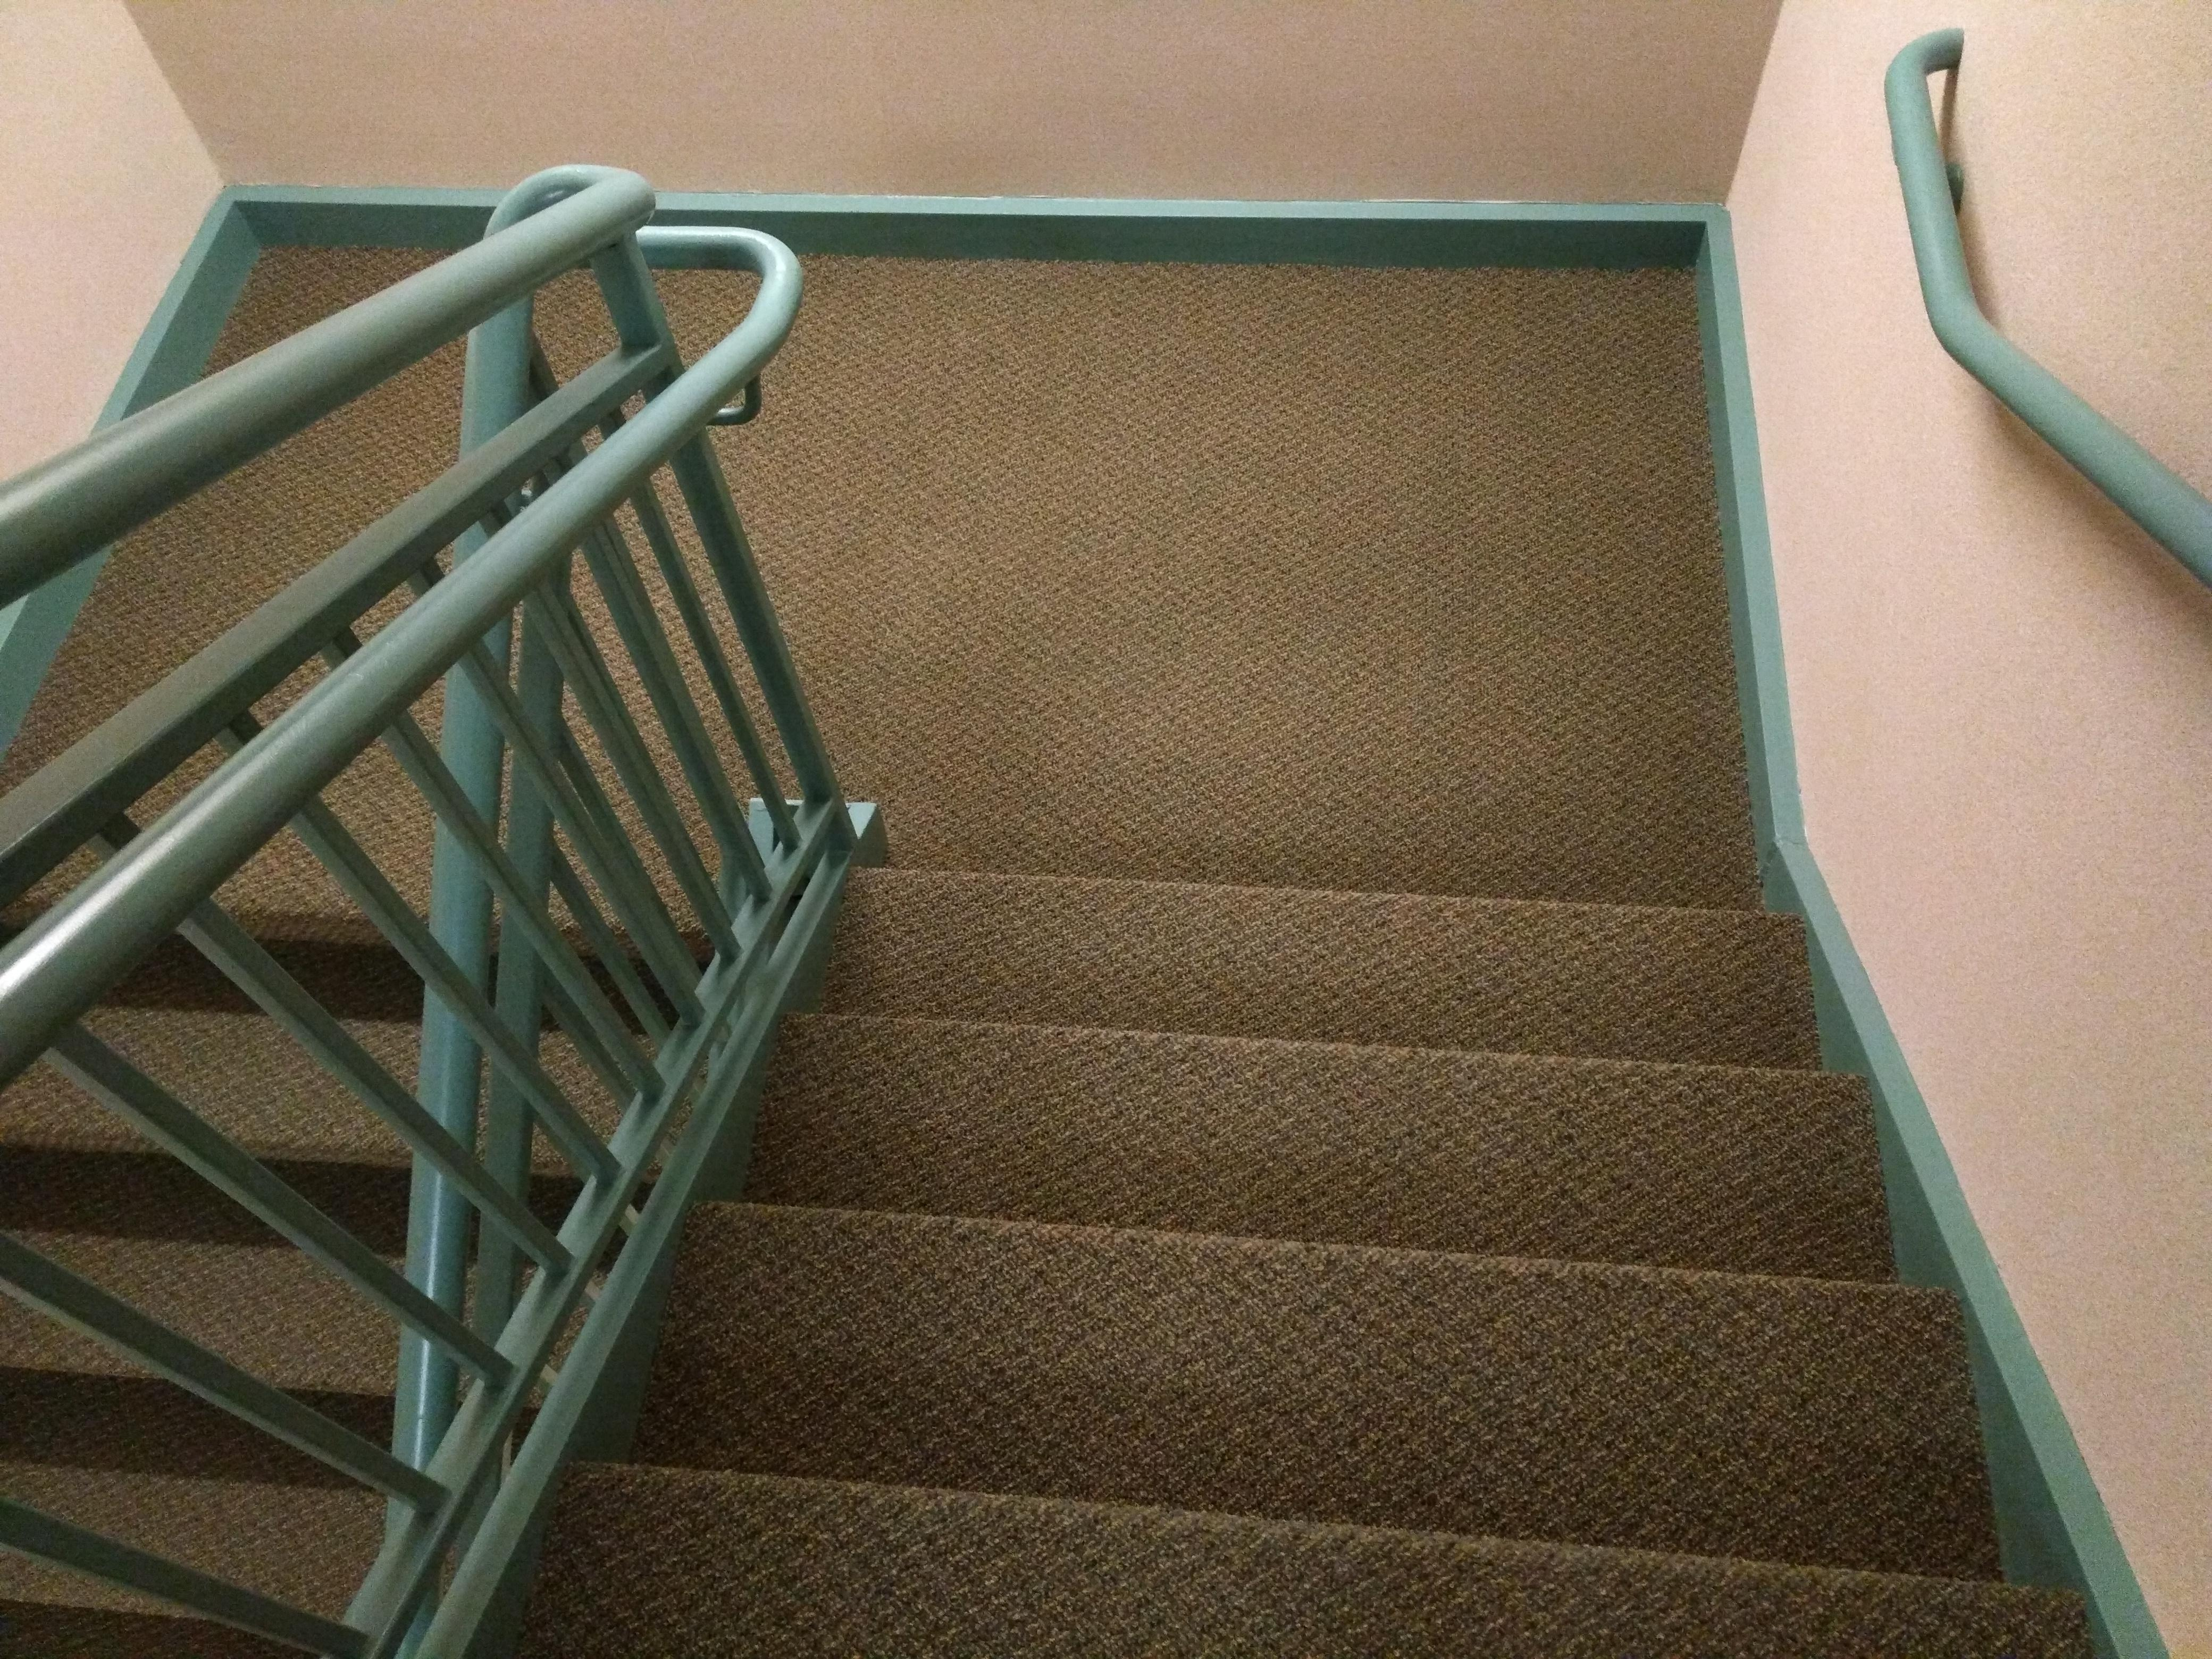stairs_down: (585, 814, 2074, 1659)
